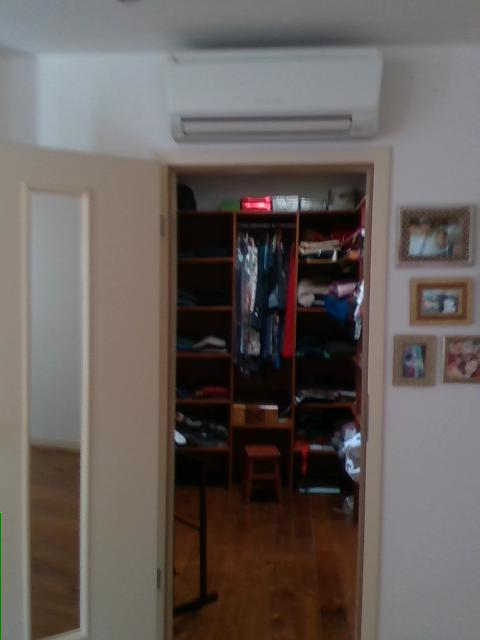open_door: (156, 146, 389, 638)
